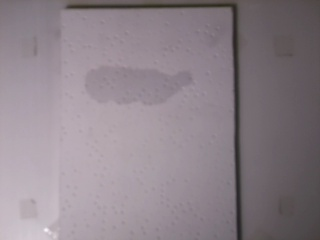Water_detected: (99, 72, 183, 112)
